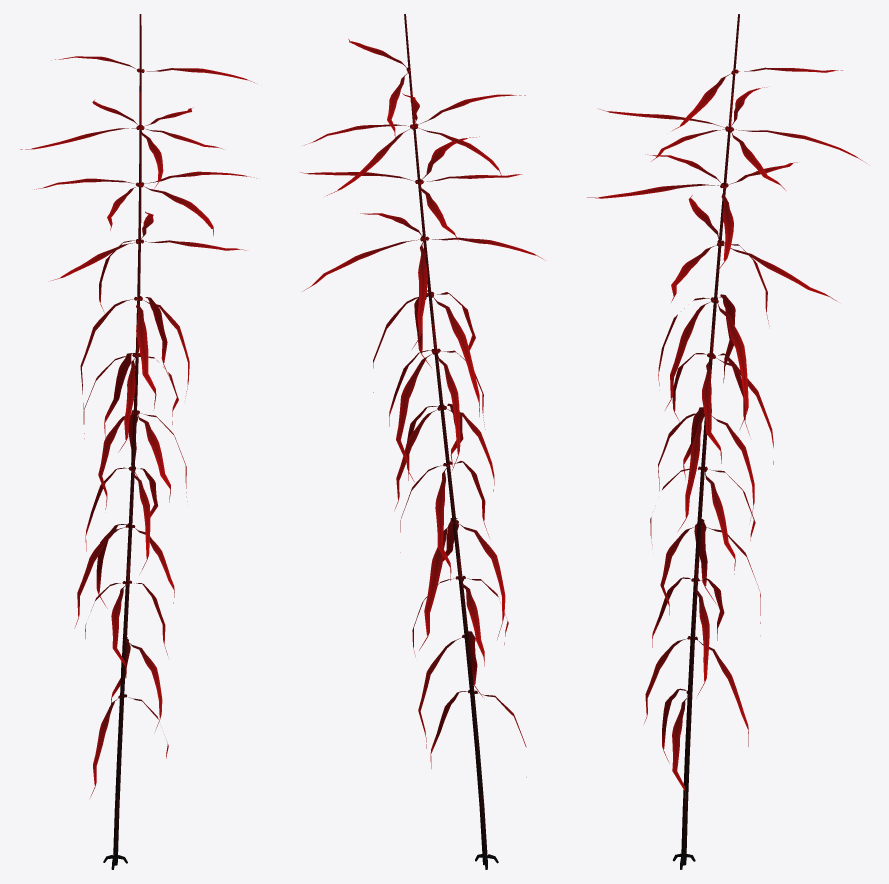
The model's file is plant_shallows_kelp_a.glb.
3 views of the same model, side by side, from view 1: azimuth 30°, elevation 25°; view 2: azimuth 150°, elevation 25°; view 3: azimuth 270°, elevation 25° (orthographic). The views are drawn at different scales.
Parts seen in each view (by area): view 1: plant_shallows_kelp_a; view 2: plant_shallows_kelp_a; view 3: plant_shallows_kelp_a.
Part boxes in pixels (x1,y1,x2,y2): plant_shallows_kelp_a: (20,14,256,869); plant_shallows_kelp_a: (300,14,543,869); plant_shallows_kelp_a: (587,14,866,869).
Size of the model in its own units: 1.92 by 6.5 by 1.99.
1 material, 1 textured.
